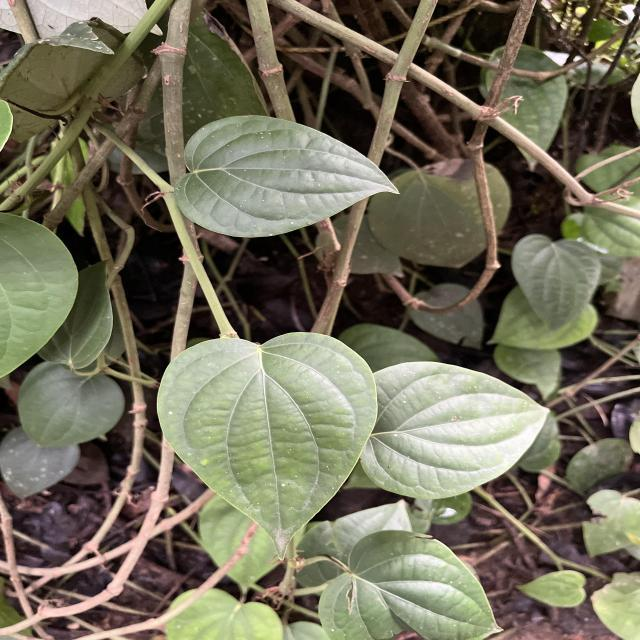Piper nigrum: (155, 330, 380, 562), (172, 112, 402, 239), (360, 359, 554, 501)
